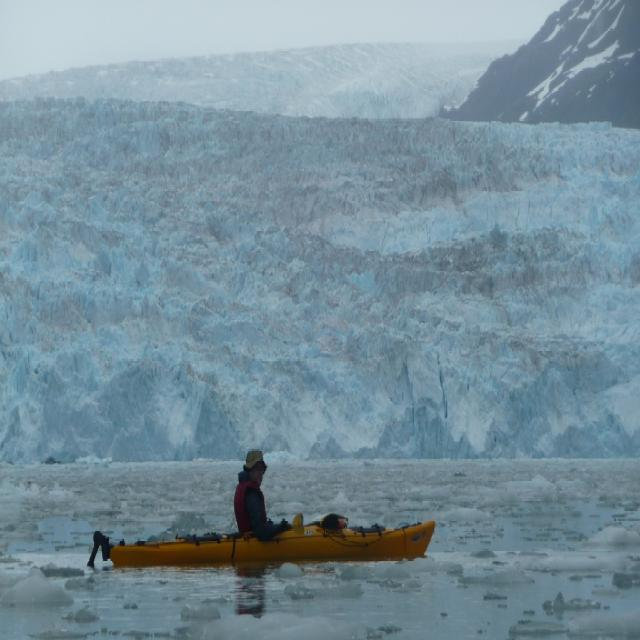Boat: (86, 518, 434, 568)
